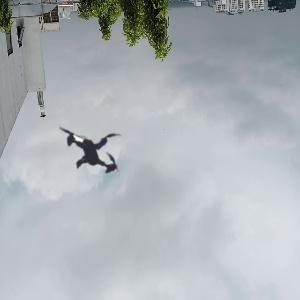drone: (33, 89, 151, 207)
